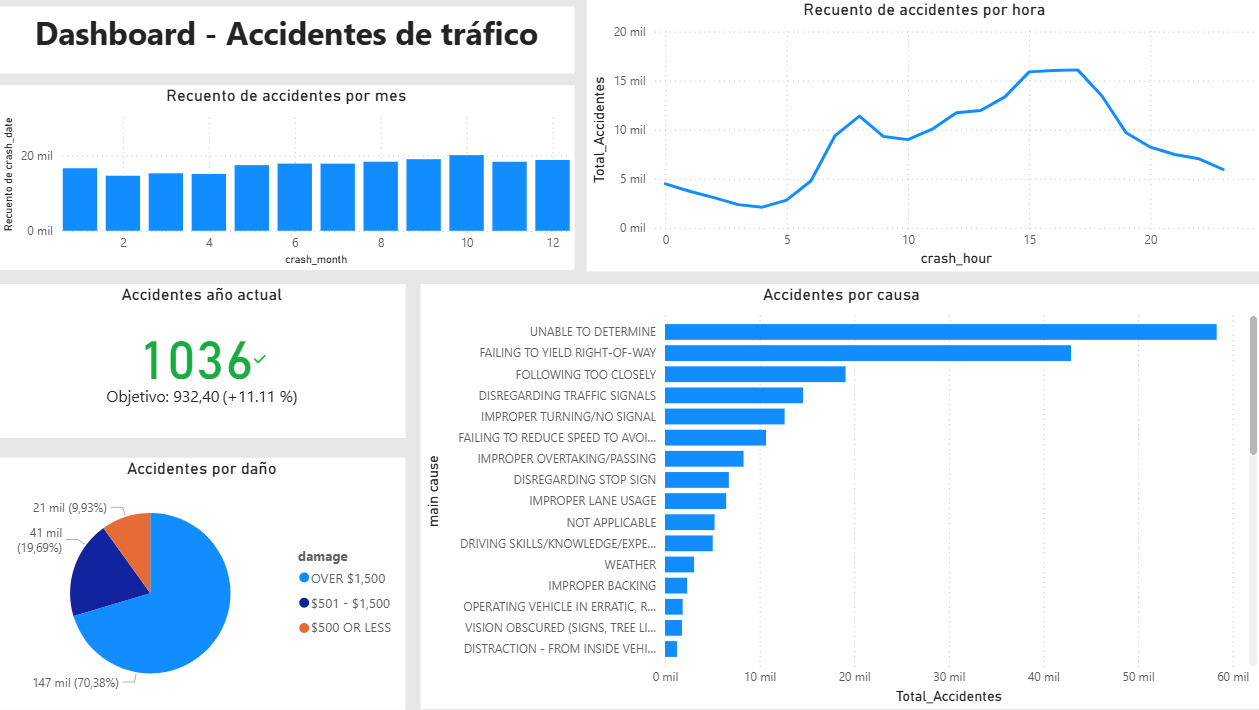

This screenshot's page, from the dashboard's own definition file:
{"tool":"powerbi","page":{"name":"Página 1","canvas":[1280,720],"ordinal":0},"visuals":[{"type":"pieChart","title":"Accidentes por daño","fields":{"Category":["traffic_accidents.damage"],"Y":["traffic_accidents.Total_Accidentes"]},"box":[0,464,412.9,255.5],"z":0},{"type":"columnChart","title":"Recuento de accidentes por mes","fields":{"Category":["traffic_accidents.crash_month"],"Y":["CountNonNull(traffic_accidents.crash_date)"]},"box":[0,87.9,584.1,187.4],"z":1000},{"type":"lineChart","title":"Recuento de accidentes por hora","fields":{"Category":["traffic_accidents.crash_hour"],"Y":["traffic_accidents.Total_Accidentes"]},"box":[595.7,0,684.3,275.7],"z":2000},{"type":"barChart","title":"Accidentes por causa","fields":{"Y":["traffic_accidents.Total_Accidentes"],"Category":["traffic_accidents.prim_contributory_cause"]},"box":[427.7,289.1,852.6,430.3],"z":3000},{"type":"kpi","title":"Accidentes año actual","fields":{"Indicator":["traffic_accidents.Total_Accidentes_Actual"],"TrendLine":["traffic_accidents.Año_Accidente"],"Goal":["traffic_accidents.Meta_Accidentes"]},"box":[0,289.1,412.9,156],"z":4000},{"type":"textbox","box":[0,8.1,584.1,68.2],"z":4001}]}

Visuals, with their boxes in screenshot pixels (x1, y1, x2, y2), scaled from the page's 1280x720 canvas onto the 1259x710 screenshot:
"Accidentes por daño" pieChart: box=[0, 458, 406, 709]
"Recuento de accidentes por mes" columnChart: box=[0, 87, 575, 271]
"Recuento de accidentes por hora" lineChart: box=[586, 0, 1258, 272]
"Accidentes por causa" barChart: box=[421, 285, 1258, 709]
"Accidentes año actual" kpi: box=[0, 285, 406, 439]
textbox: box=[0, 8, 575, 75]
